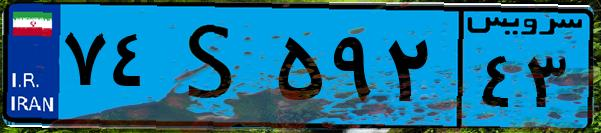2: (385, 28, 445, 110)
3: (525, 38, 570, 115)
4: (475, 38, 525, 113), (110, 28, 158, 98)
5: (270, 28, 330, 110)
7: (57, 26, 110, 100)
9: (330, 28, 385, 110)
S: (158, 12, 270, 120)
